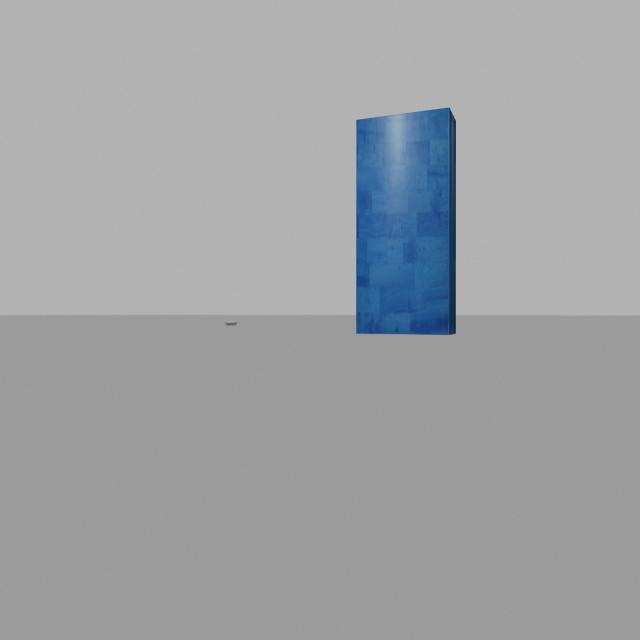bowl: (224, 313, 238, 334)
shelf: (354, 106, 459, 360)
